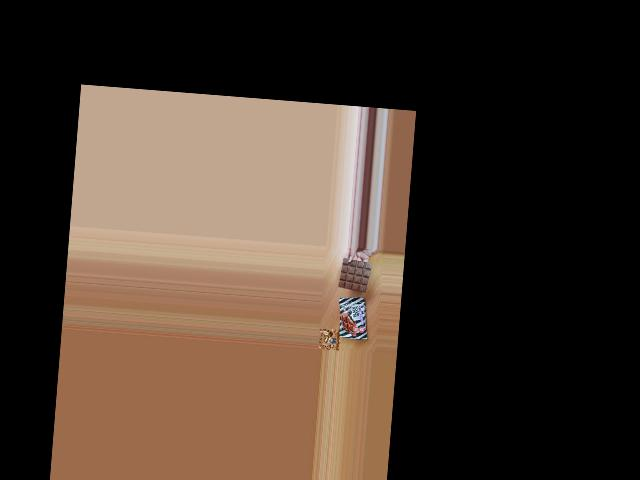chocolate: (337, 294, 369, 342)
